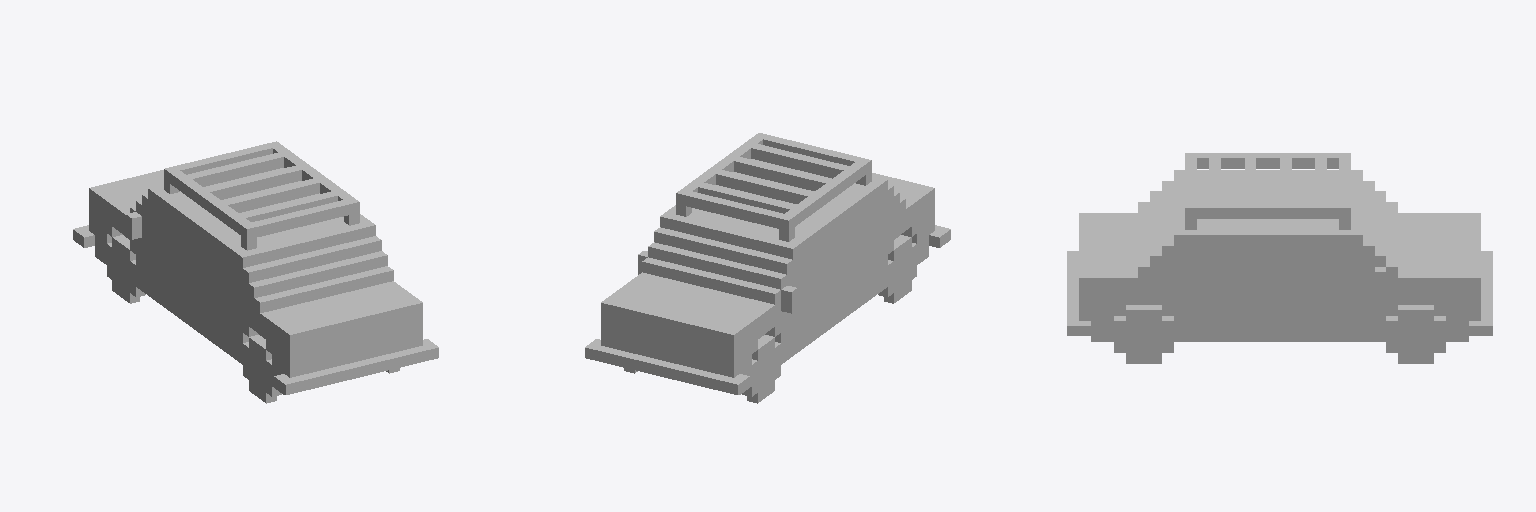
The model's file is MatthewsCar-1.obj.
The picture shows the model from 3 angles: view 1: azimuth 30°, elevation 25°; view 2: azimuth 150°, elevation 25°; view 3: azimuth 270°, elevation 25°; orthographic projection.
Parts seen in each view (by area): view 1: object 1; view 2: object 1; view 3: object 1.
Part boxes in pixels (bbox=[...]): object 1: bbox=[73, 141, 438, 403]; object 1: bbox=[585, 133, 950, 403]; object 1: bbox=[1067, 153, 1492, 363].
Bounding box in the file's own units: 1.5 × 1.4 × 3.6.